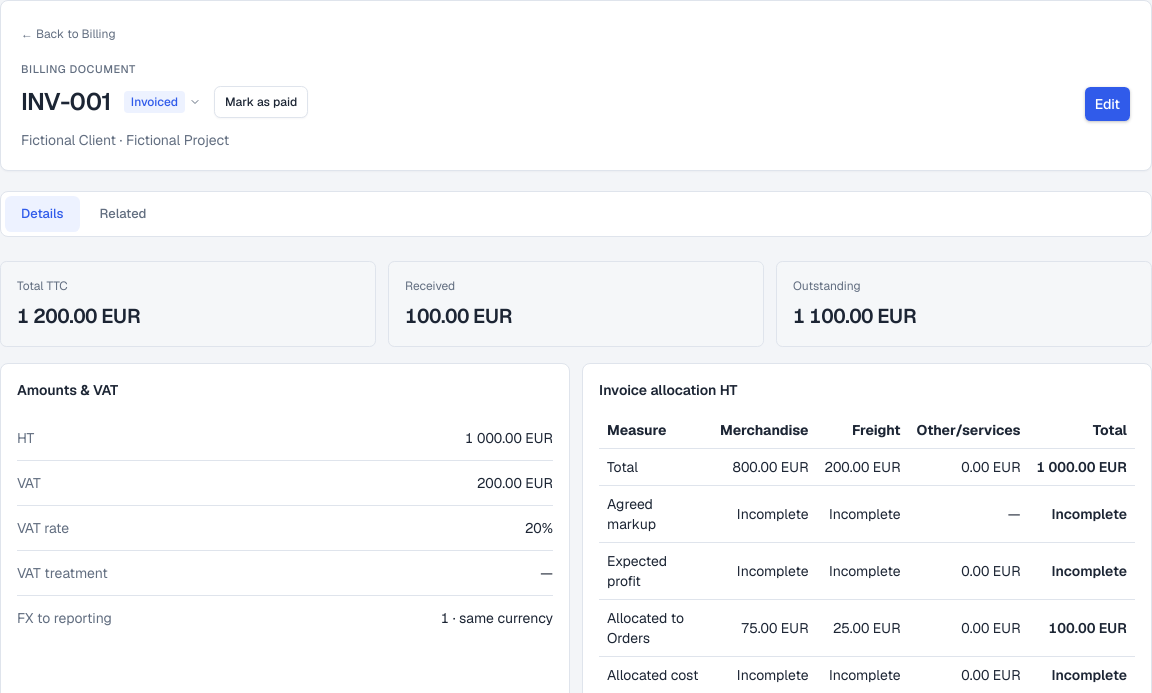
it: uses the contextual document date for INVOICE TO_BE_INVOICED
What coordinates should you click on to do the following:
click the button "Edit"
I would click on:
 (1107, 104)
Its box is [1084,86,1131,122].
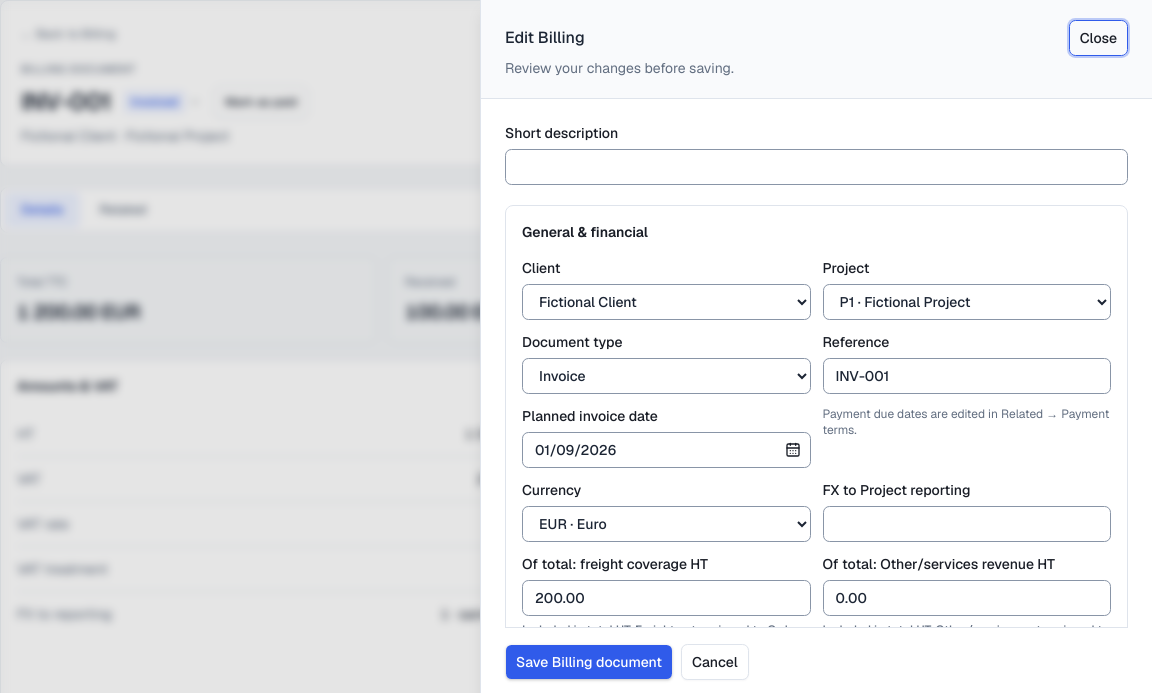
Expected: the dialog shows "Planned invoice date", [522,407,658,425]
